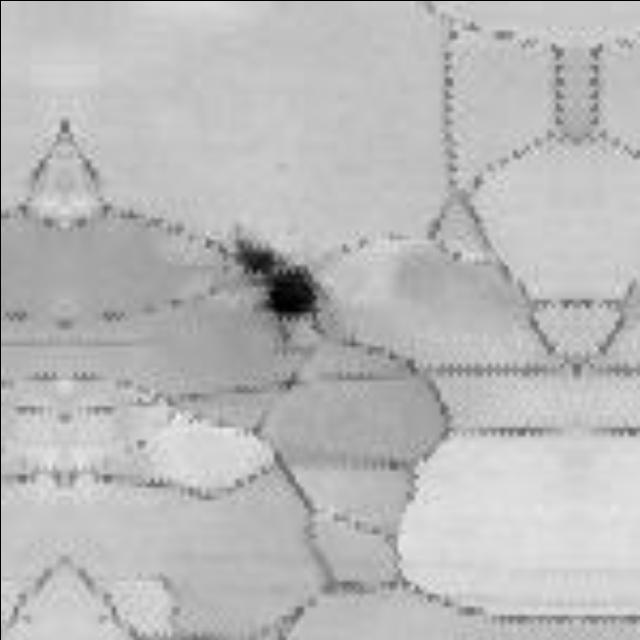good_void: (220, 233, 320, 325), (270, 370, 304, 398)
